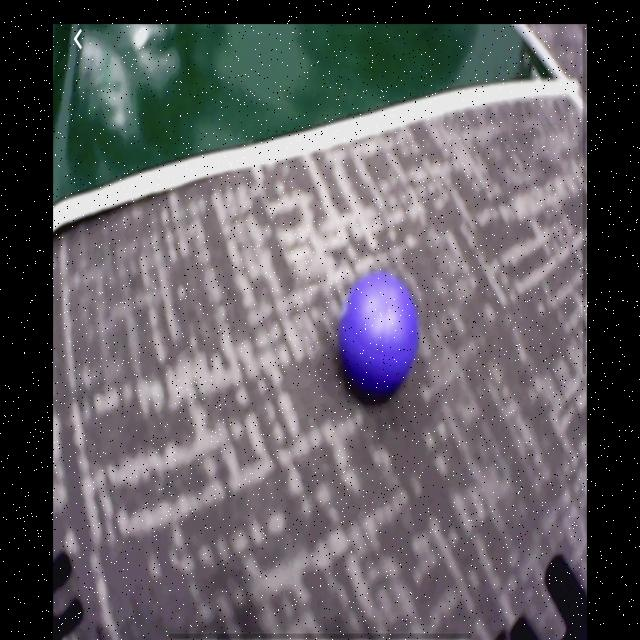ball: (339, 271, 419, 396)
